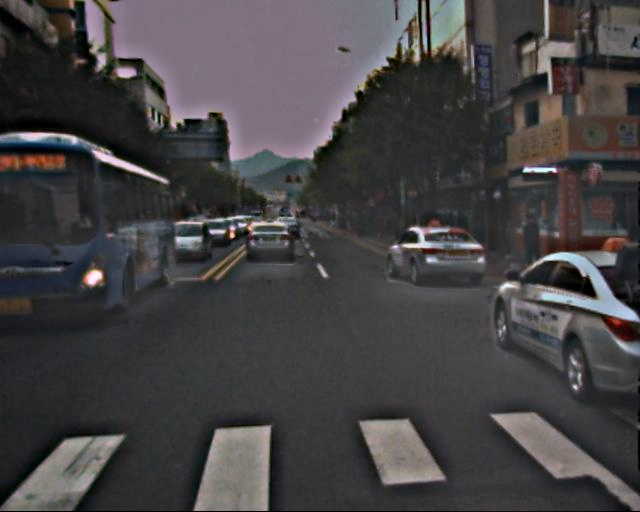person: (518, 213, 544, 277)
